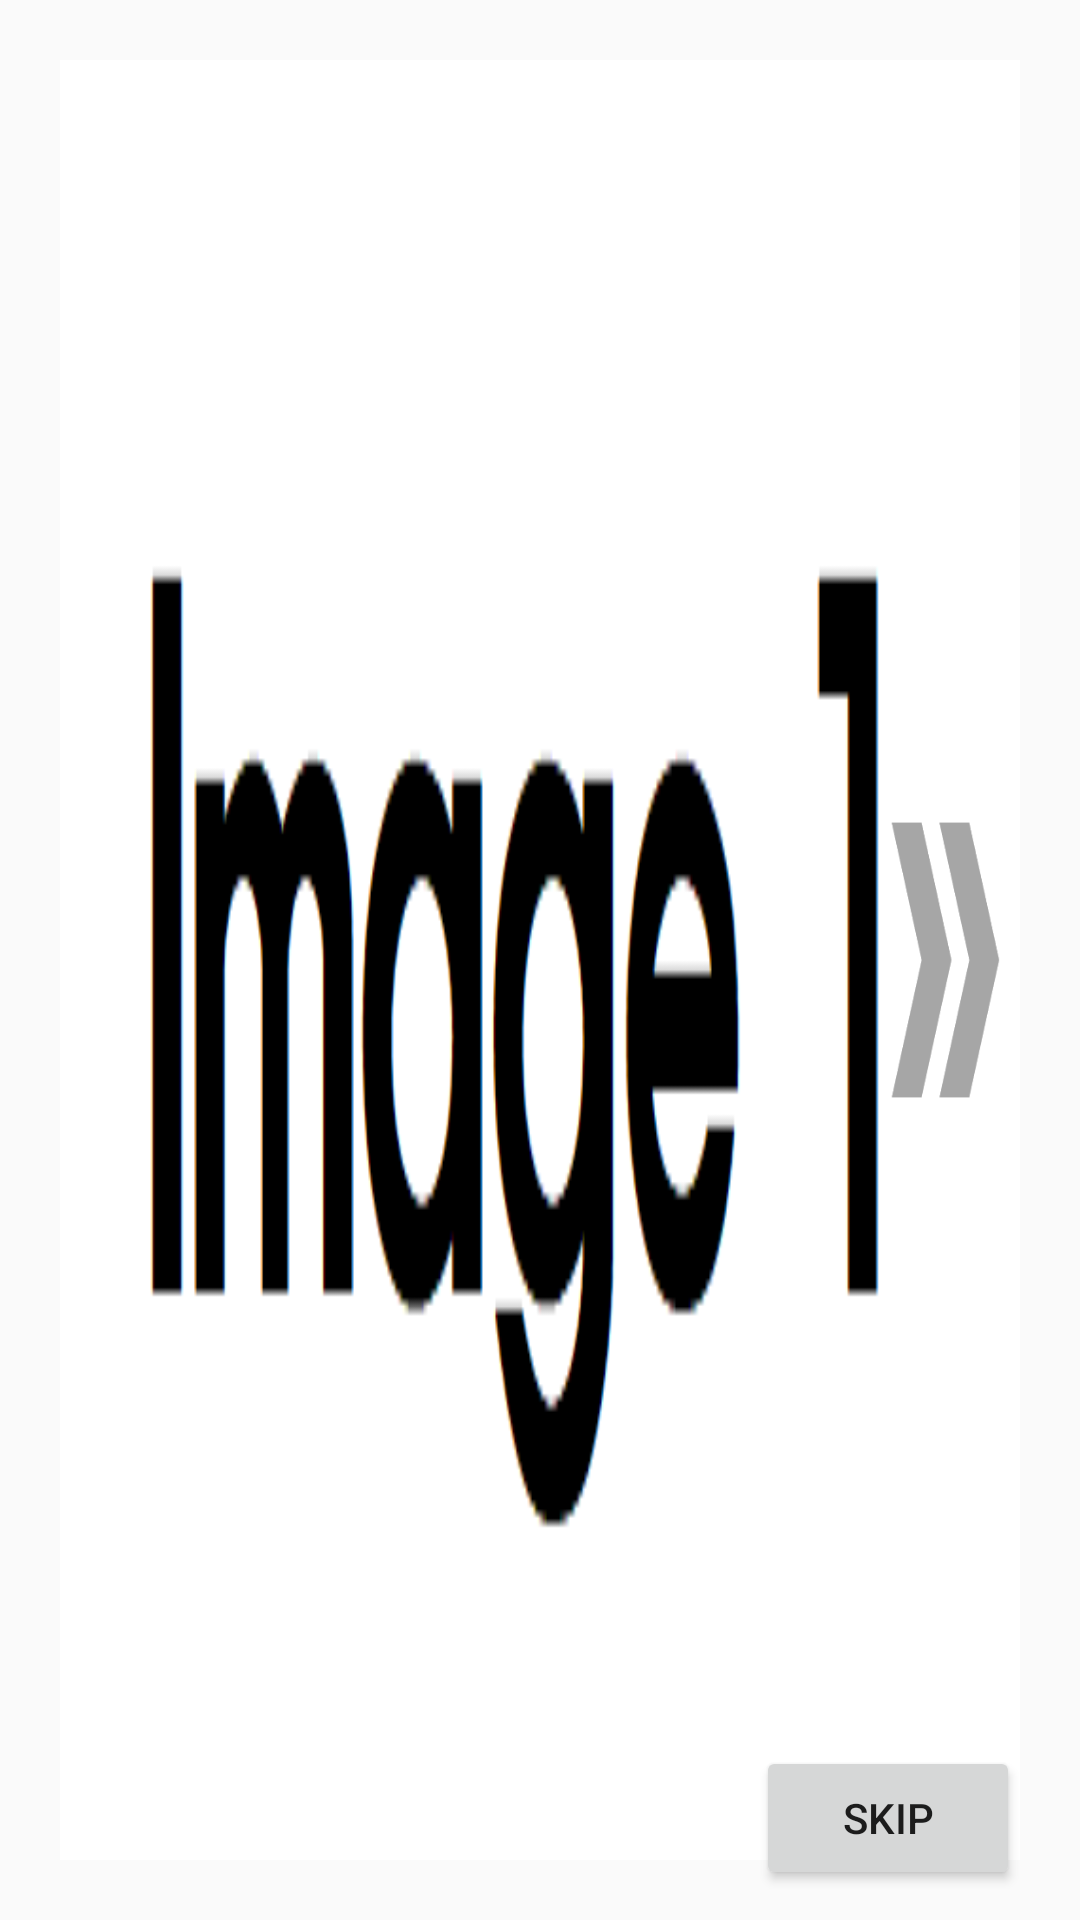

Point at icon controls on the screen. Image size 1080*1920, points as point (x, y).
next: point (945, 960)
